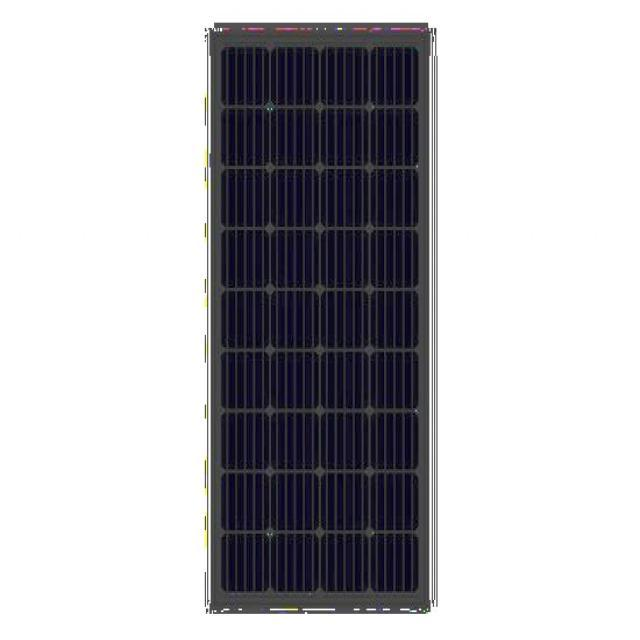no faulty: (214, 36, 426, 604)
